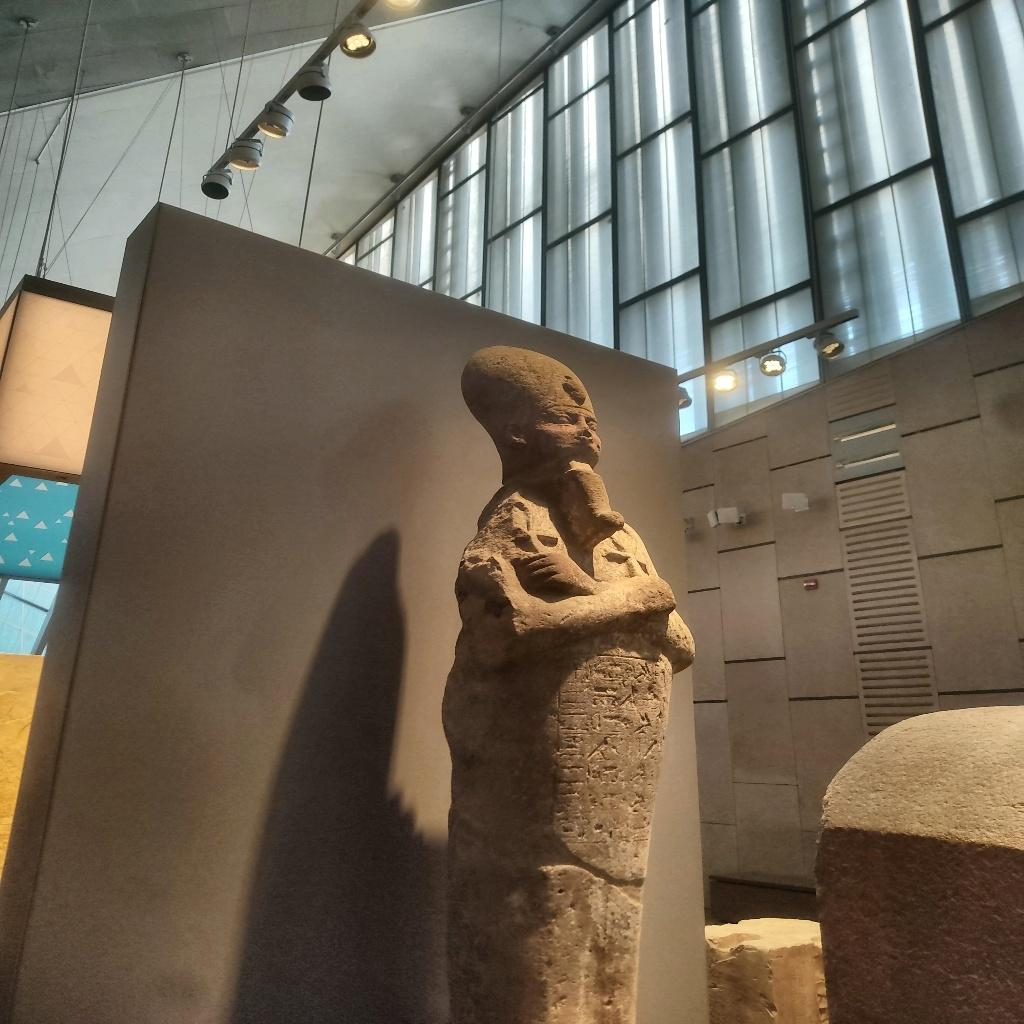Statue of Mentuhotep II: (435, 333, 719, 1024)
